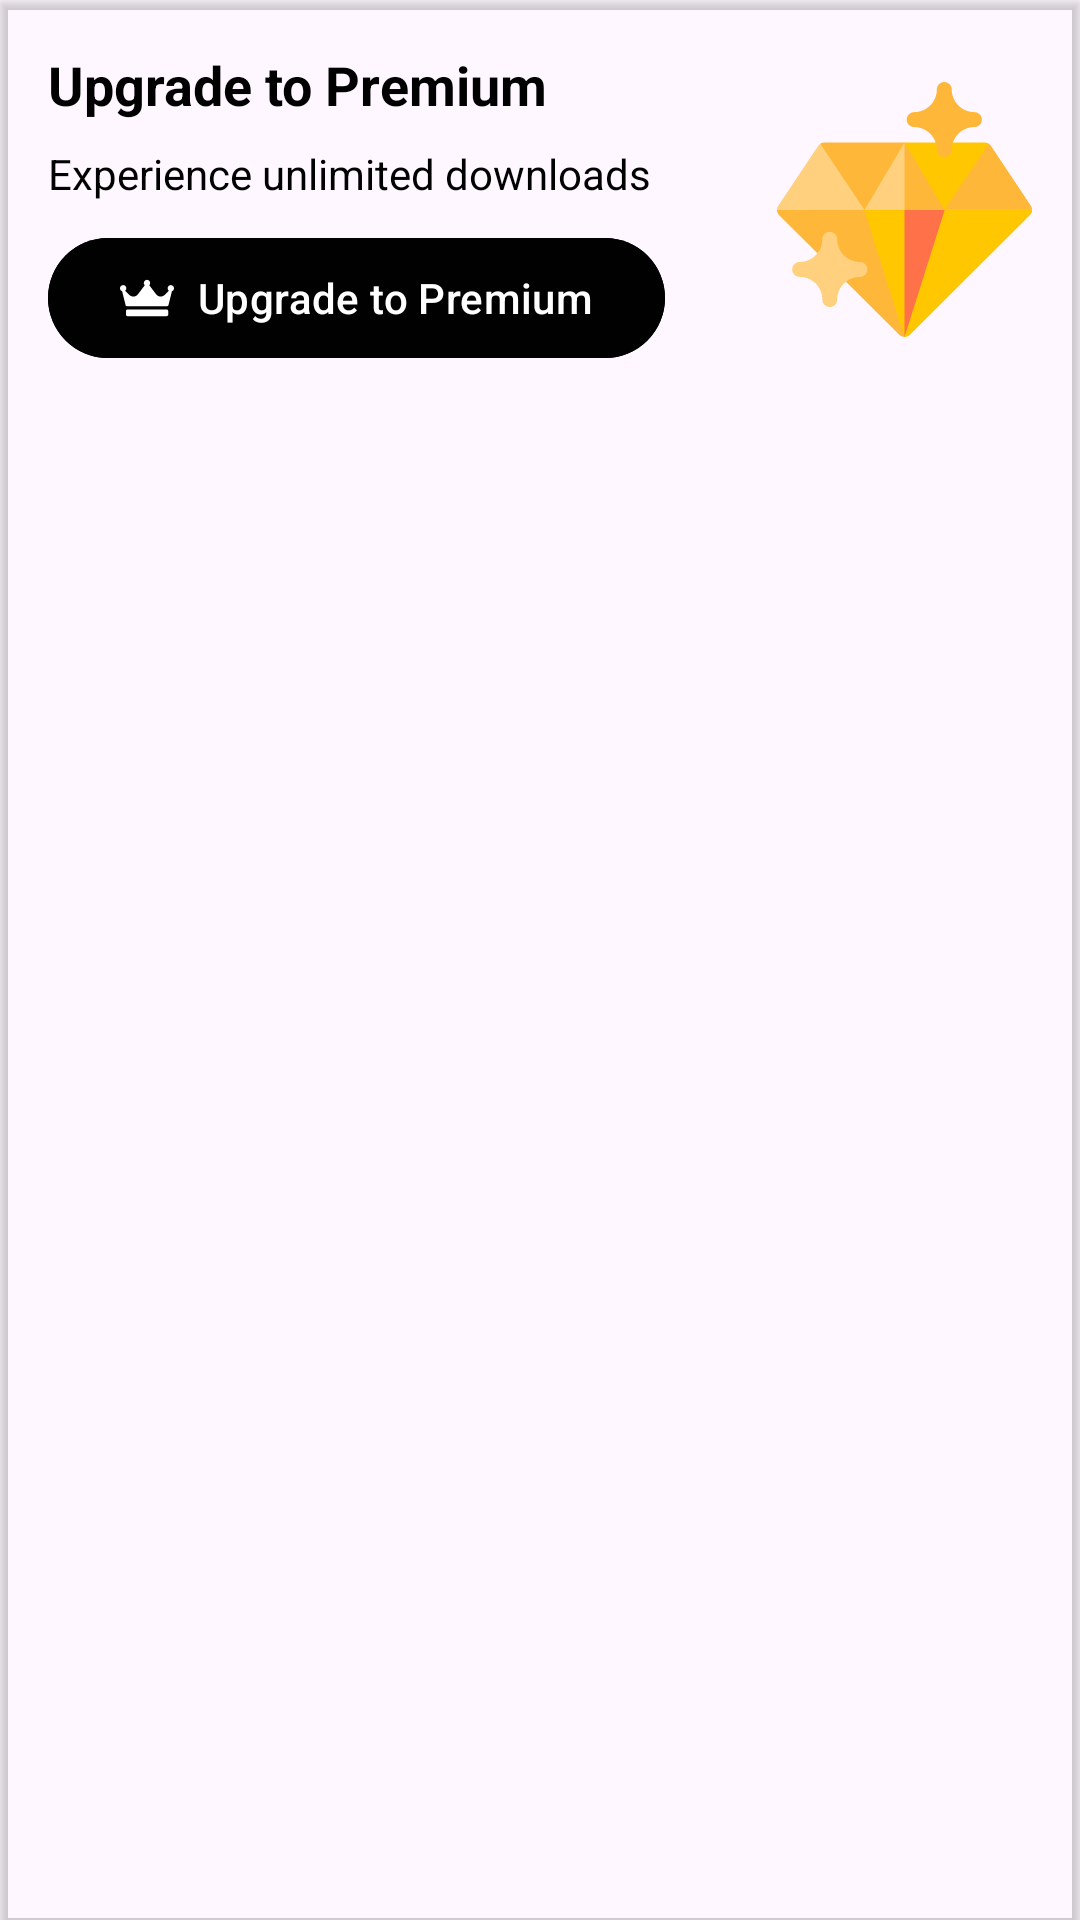

Point at icon controls on the screen. Image size 1080w x 1920h, points as (x=x, y=y).
diamond: (x=904, y=209)
